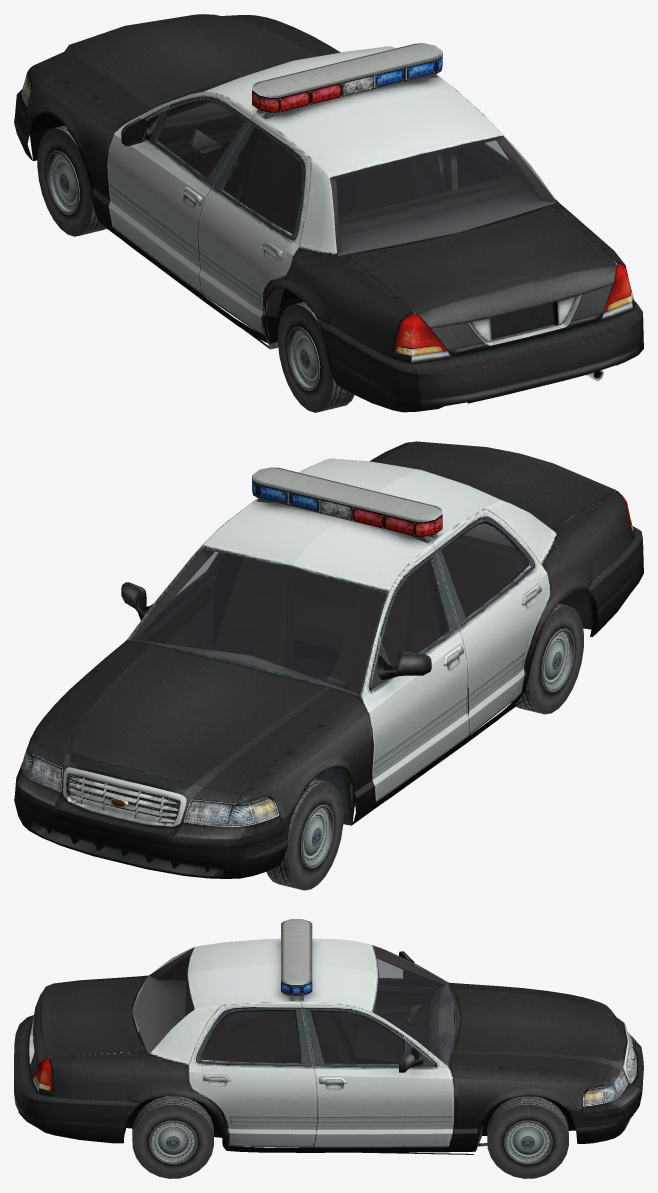
3 renders of one model, top to bottom at view 1: azimuth 30°, elevation 25°; view 2: azimuth 150°, elevation 25°; view 3: azimuth 270°, elevation 25°, orthographic. The views are drawn at different scales.
Parts seen in each view (by area): view 1: Body, Salon, Glass, Capot_R, Capot_F, Bumper_R, Door_F, Door_R, Migalki, Wheel_RL, Wheel_FL, Bumper_F; view 2: Body, Glass, Salon, Capot_F, Door_F, Bumper_F, Door_R, Capot_R, Migalki, Wheel_FL, Wheel_RL, Bumper_R; view 3: Body, Glass, Salon, Door_F, Capot_F, Door_R, Capot_R, Bumper_R, Wheel_RR, Wheel_FR, Bumper_F, Migalki.
Part boxes in pixels (x1,y1,x2,y2): Body: [21, 15, 634, 362]; Salon: [113, 102, 556, 329]; Glass: [157, 87, 556, 255]; Capot_R: [347, 204, 616, 356]; Capot_F: [36, 14, 334, 118]; Bumper_R: [317, 300, 643, 412]; Door_F: [107, 93, 254, 294]; Door_R: [197, 115, 509, 335]; Migalki: [252, 43, 442, 119]; Wheel_RL: [278, 302, 354, 412]; Wheel_FL: [37, 125, 106, 236]; Bumper_F: [14, 89, 32, 160]; Body: [21, 442, 634, 827]; Glass: [131, 523, 529, 695]; Salon: [131, 523, 537, 783]; Capot_F: [36, 641, 354, 793]; Door_F: [121, 543, 469, 801]; Bumper_F: [14, 762, 290, 878]; Door_R: [434, 509, 550, 735]; Capot_R: [376, 441, 616, 529]; Migalki: [252, 467, 442, 543]; Wheel_FL: [266, 778, 343, 890]; Wheel_RL: [511, 603, 583, 714]; Bumper_R: [579, 512, 643, 636]; Body: [32, 938, 636, 1152]; Glass: [132, 947, 455, 1065]; Salon: [132, 947, 454, 1131]; Door_F: [301, 951, 454, 1147]; Capot_F: [449, 984, 617, 1078]; Door_R: [189, 1002, 317, 1147]; Capot_R: [29, 978, 146, 1078]; Bumper_R: [14, 1015, 141, 1143]; Wheel_RR: [132, 1096, 213, 1178]; Wheel_FR: [487, 1096, 568, 1178]; Bumper_F: [570, 1035, 643, 1143]; Migalki: [281, 919, 312, 1000].
Size of the model in its own units: 2.24 by 1.72 by 5.35.
Materials: 6 (5 with a texture image).
